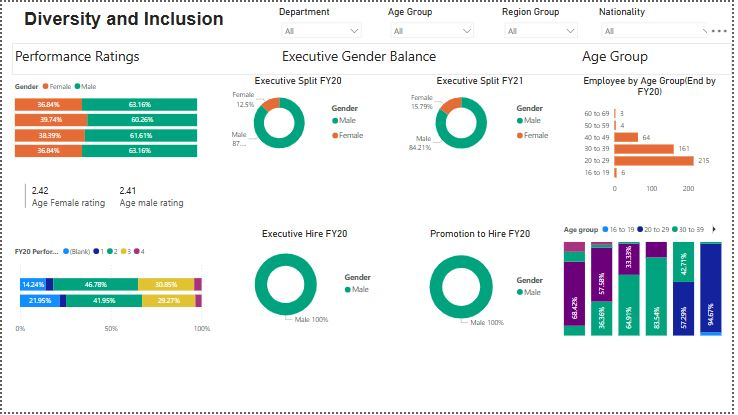

Layout of this report page (visuals, bound fields, positions):
{"tool":"powerbi","page":{"name":"Page 2","canvas":[1280,720],"ordinal":1},"visuals":[{"type":"slicer","title":"Department","fields":{"Values":["Pharma Group AG.Last Department in FY20"]},"box":[480.4,6.7,159.6,58.8],"z":0},{"type":"slicer","title":"Age Group","fields":{"Values":["Pharma Group AG.Age @01.07.2020"]},"box":[671.9,6.7,166.3,58.8],"z":1000},{"type":"slicer","title":"Nationality","fields":{"Values":["Pharma Group AG.Nationality 1"]},"box":[1041.5,6.7,216.7,58.8],"z":2000},{"type":"slicer","title":"Region  Group","fields":{"Values":["Pharma Group AG.Region group: nationality 1"]},"box":[871.8,6.7,147.8,65.5],"z":3000},{"type":"textbox","box":[18.2,7.3,392.7,65.5],"z":4000},{"type":"hundredPercentStackedBarChart","fields":{"Category":["Pharma Group AG.FY20 Performance Rating"],"Y":["Divide(CountNonNull(Pharma Group AG.Employee ID), ScopedEval(CountNonNull(Pharma Group AG.Employee ID), []))"],"Series":["Pharma Group AG.Gender"]},"box":[17.5,128.1,329.8,149.1],"z":5000},{"type":"hundredPercentStackedBarChart","fields":{"Category":["Pharma Group AG.Gender"],"Series":["Pharma Group AG.FY20 Performance Rating"],"Y":["CountNonNull(Pharma Group AG.Employee ID)"]},"box":[17.5,417.5,352.6,173.7],"z":6000},{"type":"donutChart","title":"Executive Split FY20","fields":{"Category":["Pharma Group AG.Gender"],"Y":["CountNonNull(Pharma Group AG.Employee ID)"]},"box":[389.5,128.1,259.6,149.1],"z":7000},{"type":"donutChart","title":"Executive Split FY21","fields":{"Category":["Pharma Group AG.Gender"],"Y":["CountNonNull(Pharma Group AG.Employee ID)"]},"box":[703.5,128.1,270.2,149.1],"z":8000},{"type":"donutChart","title":"Executive Hire FY20","fields":{"Category":["Pharma Group AG.Gender"],"Y":["CountNonNull(Pharma Group AG.Employee ID)"]},"box":[389.5,396.5,282.5,178.9],"z":9000},{"type":"donutChart","title":"Promotion to Hire FY20","fields":{"Category":["Pharma Group AG.Gender"],"Y":["CountNonNull(Pharma Group AG.Employee ID)"]},"box":[703.5,396.5,270.2,187.7],"z":10000},{"type":"barChart","title":"Employee by Age Group(End by FY20)","fields":{"Category":["Pharma Group AG.Age group"],"Y":["CountNonNull(Pharma Group AG.Employee ID)"]},"box":[1012.3,128.1,247.4,217.5],"z":11000},{"type":"hundredPercentStackedColumnChart","fields":{"Category":["Pharma Group AG.Job Level after FY21 promotions"],"Y":["CountNonNull(Pharma Group AG.Employee ID)"],"Series":["Pharma Group AG.Age group"]},"box":[980.7,378.9,287.7,212.3],"z":12000},{"type":"multiRowCard","fields":{"Values":["Pharma Group AG.Age Female rating","Pharma Group AG.Age male rating"]},"box":[35.1,314,329.8,64.9],"z":13000},{"type":"textbox","box":[17.5,71.9,1263.2,56.1],"z":14000}]}

Visuals, with their boxes in screenshot pixels (x1, y1, x2, y2), scaled from the page's 1280x720 canvas onto the 738x415 screenshot:
"Department" slicer: [x1=277, y1=4, x2=369, y2=38]
"Age Group" slicer: [x1=387, y1=4, x2=483, y2=38]
"Nationality" slicer: [x1=600, y1=4, x2=725, y2=38]
"Region  Group" slicer: [x1=503, y1=4, x2=588, y2=42]
textbox: [x1=10, y1=4, x2=237, y2=42]
hundredPercentStackedBarChart - Pharma Group AG.FY20 Performance Rating x Divide(CountNonNull(Pharma Group AG.Employee ID), ScopedEval(CountNonNull(Pharma Group AG.Employee ID), [])): [x1=10, y1=74, x2=200, y2=160]
hundredPercentStackedBarChart - Pharma Group AG.Gender x Pharma Group AG.FY20 Performance Rating: [x1=10, y1=241, x2=213, y2=341]
"Executive Split FY20" donutChart: [x1=225, y1=74, x2=374, y2=160]
"Executive Split FY21" donutChart: [x1=406, y1=74, x2=561, y2=160]
"Executive Hire FY20" donutChart: [x1=225, y1=229, x2=387, y2=332]
"Promotion to Hire FY20" donutChart: [x1=406, y1=229, x2=561, y2=337]
"Employee by Age Group(End by FY20)" barChart: [x1=584, y1=74, x2=726, y2=199]
hundredPercentStackedColumnChart - Pharma Group AG.Job Level after FY21 promotions x CountNonNull(Pharma Group AG.Employee ID): [x1=565, y1=218, x2=731, y2=341]
multiRowCard - Pharma Group AG.Age Female rating x Pharma Group AG.Age male rating: [x1=20, y1=181, x2=210, y2=218]
textbox: [x1=10, y1=41, x2=737, y2=74]
